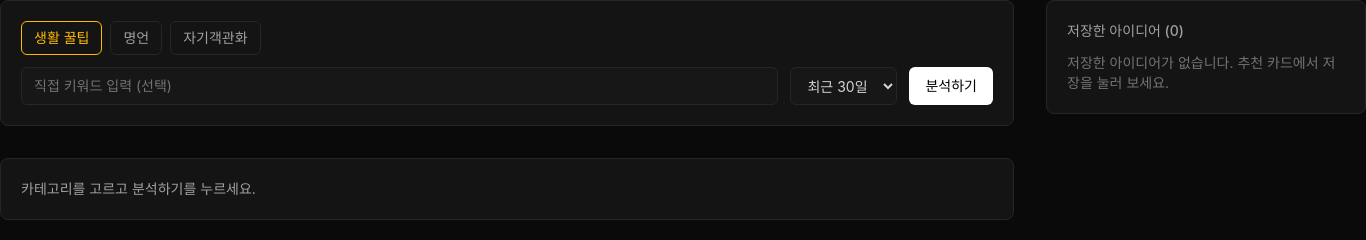
it: Dashboard › 에러 › 다른 에러 코드는 message만 보여 준다
Click the button "분석하기": (951, 86) [910, 67, 993, 105]
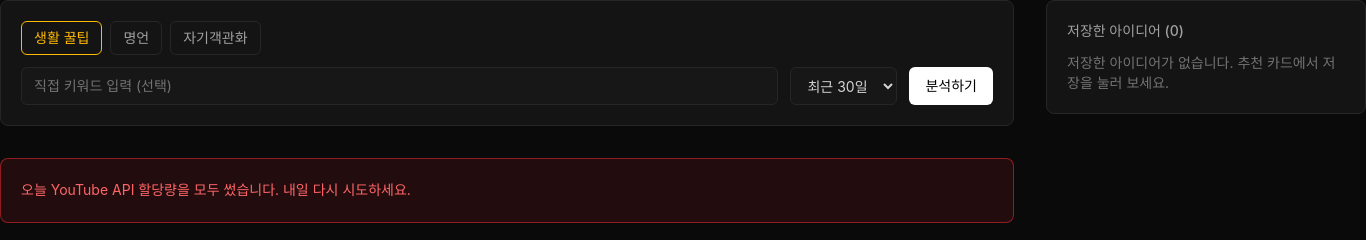
Expected: the message does not show ".env.example", [0, 158, 1014, 223]
Now the message reads "오늘 YouTube API 할당량을 모두 썼습니다. 내일 다시 시도하세요.", box [21, 181, 411, 198]
